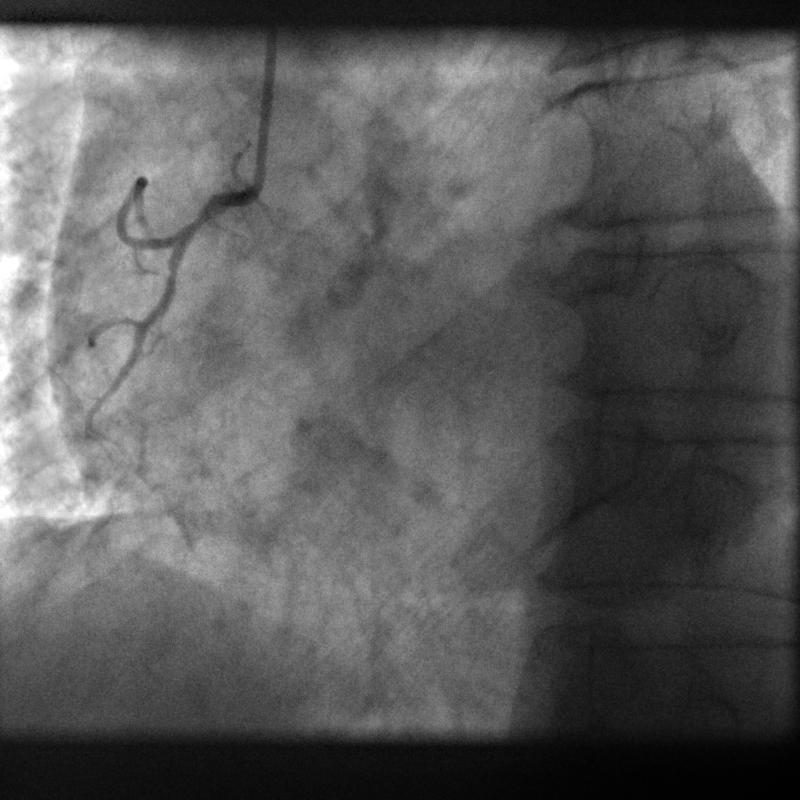Stenosis: (183, 199, 218, 237)
